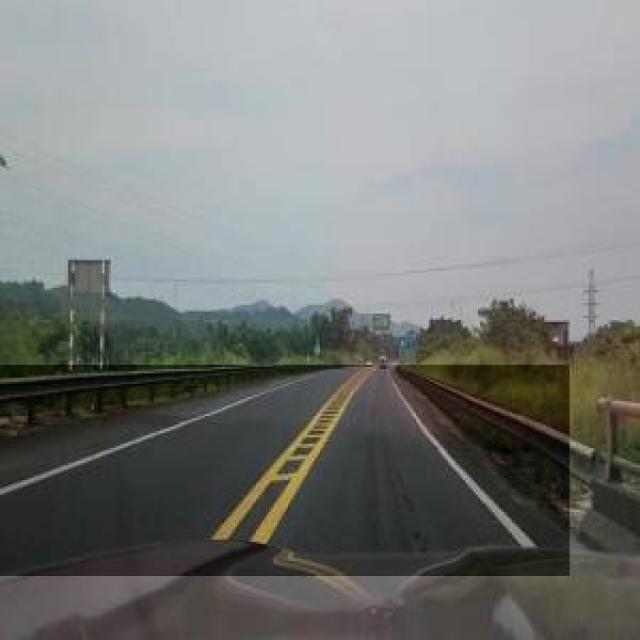clear-road: (0, 367, 570, 576)
